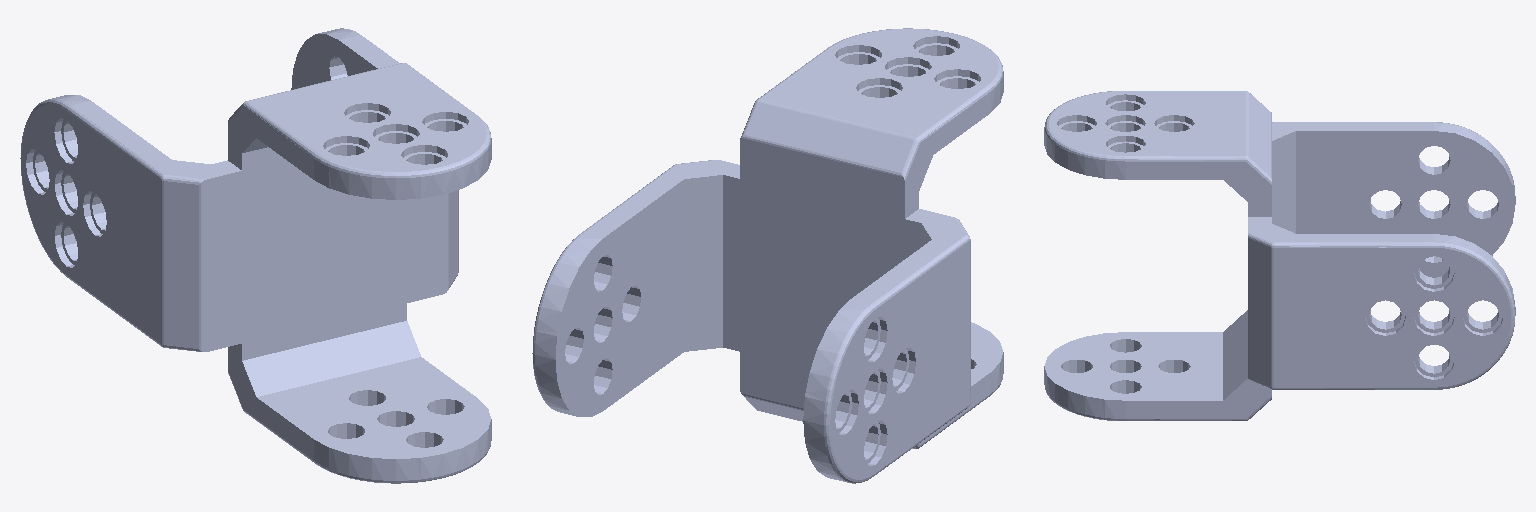
The robot description file, URDF, robot "quattro.SLDASM":
<robot
  name="quattro.SLDASM">
  <link
    name="base">
    <inertial>
      <origin
        xyz="-4.33444102111412E-05 0.00282117025647164 -0.012447430296801"
        rpy="0 0 0" />
      <mass
        value="0.126300113846277" />
      <inertia
        ixx="0.000563336494500983"
        ixy="3.82476104620512E-07"
        ixz="-2.78187091164671E-08"
        iyy="0.000161178979212686"
        iyz="1.78587772397126E-06"
        izz="0.000692206157084579" />
    </inertial>
    <visual>
      <origin
        xyz="0 0 0"
        rpy="0 0 0" />
      <geometry>
        <mesh
          filename="package://quattro.SLDASM/meshes/base.STL" />
      </geometry>
      <material
        name="">
        <color
          rgba="0.752941176470588 0.752941176470588 0.752941176470588 1" />
      </material>
    </visual>
    <collision>
      <origin
        xyz="0 0 0"
        rpy="0 0 0" />
      <geometry>
        <mesh
          filename="package://quattro.SLDASM/meshes/base.STL" />
      </geometry>
    </collision>
  </link>
  <link
    name="leg11">
    <inertial>
      <origin
        xyz="5.8390958734833E-11 7.86266607377684E-11 0.00317138378761195"
        rpy="0 0 0" />
      <mass
        value="0.00832103132695626" />
      <inertia
        ixx="2.23466315764188E-06"
        ixy="-6.20440904872423E-15"
        ixz="1.0420498133953E-15"
        iyy="2.37822473297719E-06"
        iyz="1.16457732812674E-16"
        izz="2.08446817531973E-06" />
    </inertial>
    <visual>
      <origin
        xyz="0 0 0"
        rpy="0 0 0" />
      <geometry>
        <mesh
          filename="package://quattro.SLDASM/meshes/leg11.STL" />
      </geometry>
      <material
        name="">
        <color
          rgba="0.792156862745098 0.819607843137255 0.929411764705882 1" />
      </material>
    </visual>
    <collision>
      <origin
        xyz="0 0 0"
        rpy="0 0 0" />
      <geometry>
        <mesh
          filename="package://quattro.SLDASM/meshes/leg11.STL" />
      </geometry>
    </collision>
  </link>
  <joint
    name="m11"
    type="prismatic">
    <origin
      xyz="-0.03968 0.042 0.075599"
      rpy="-1.5708 0 0" />
    <parent
      link="base" />
    <child
      link="leg11" />
    <axis
      xyz="0 0 0" />
    <limit
      effort="0"
      velocity="0" />
  </joint>
  <link
    name="leg12">
    <inertial>
      <origin
        xyz="-0.0396267390553209 0.0755400746296896 -0.0924999360130028"
        rpy="0 0 0" />
      <mass
        value="0.0373209133237822" />
      <inertia
        ixx="2.05550393780223E-05"
        ixy="3.10121164138848E-12"
        ixz="1.43749665780576E-09"
        iyy="2.07080709042872E-05"
        iyz="-3.61916309587948E-08"
        izz="3.93300236339501E-06" />
    </inertial>
    <visual>
      <origin
        xyz="0 0 0"
        rpy="0 0 0" />
      <geometry>
        <mesh
          filename="package://quattro.SLDASM/meshes/leg12.STL" />
      </geometry>
      <material
        name="">
        <color
          rgba="0.752941176470588 0.752941176470588 0.752941176470588 1" />
      </material>
    </visual>
    <collision>
      <origin
        xyz="0 0 0"
        rpy="0 0 0" />
      <geometry>
        <mesh
          filename="package://quattro.SLDASM/meshes/leg12.STL" />
      </geometry>
    </collision>
  </link>
  <joint
    name="m12"
    type="revolute">
    <origin
      xyz="0.03968 0.075599 -0.042"
      rpy="3.1416 0 0" />
    <parent
      link="leg11" />
    <child
      link="leg12" />
    <axis
      xyz="0 0 0" />
    <limit
      effort="0"
      velocity="0" />
  </joint>
  <link
    name="leg13">
    <inertial>
      <origin
        xyz="-0.03967998378971 0.0752938731256453 -0.148760302311572"
        rpy="0 0 0" />
      <mass
        value="0.00842182136854289" />
      <inertia
        ixx="3.3708405263862E-06"
        ixy="-2.59902673196582E-12"
        ixz="3.4725189793958E-12"
        iyy="4.53085167690933E-06"
        iyz="-1.882640117226E-08"
        izz="1.63375515243945E-06" />
    </inertial>
    <visual>
      <origin
        xyz="0 0 0"
        rpy="0 0 0" />
      <geometry>
        <mesh
          filename="package://quattro.SLDASM/meshes/leg13.STL" />
      </geometry>
      <material
        name="">
        <color
          rgba="0.752941176470588 0.752941176470588 0.752941176470588 1" />
      </material>
    </visual>
    <collision>
      <origin
        xyz="0 0 0"
        rpy="0 0 0" />
      <geometry>
        <mesh
          filename="package://quattro.SLDASM/meshes/leg13.STL" />
      </geometry>
    </collision>
  </link>
  <joint
    name="m13"
    type="revolute">
    <origin
      xyz="0 0 0"
      rpy="0 0 0" />
    <parent
      link="leg12" />
    <child
      link="leg13" />
    <axis
      xyz="0 0 0" />
    <limit
      effort="0"
      velocity="0" />
  </joint>
</robot>

--- Facts derived from the render (not from the file) ---
The picture shows the robot from 3 angles, left to right: view 1: azimuth 30°, elevation 25°; view 2: azimuth 150°, elevation 25°; view 3: azimuth 270°, elevation 25°; orthographic projection.
Model quattro.SLDASM with 4 links and 3 joints (2 revolute, 1 prismatic), rooted at base, posed all joints at 0.
Links seen in each view (by area): view 1: leg11; view 2: leg11; view 3: leg11.
Link boxes in pixels (x1,y1,x2,y2): leg11: (20, 28, 491, 483); leg11: (532, 28, 1003, 483); leg11: (1044, 91, 1515, 420).
Size in the robot's own frame: 0.036 by 0.058 by 0.036 metres.
Meshes: 4 distinct files referenced, 1 mesh visuals loaded (1 binary STL); not drawn: 3 (reference not matched to a file when rendering).